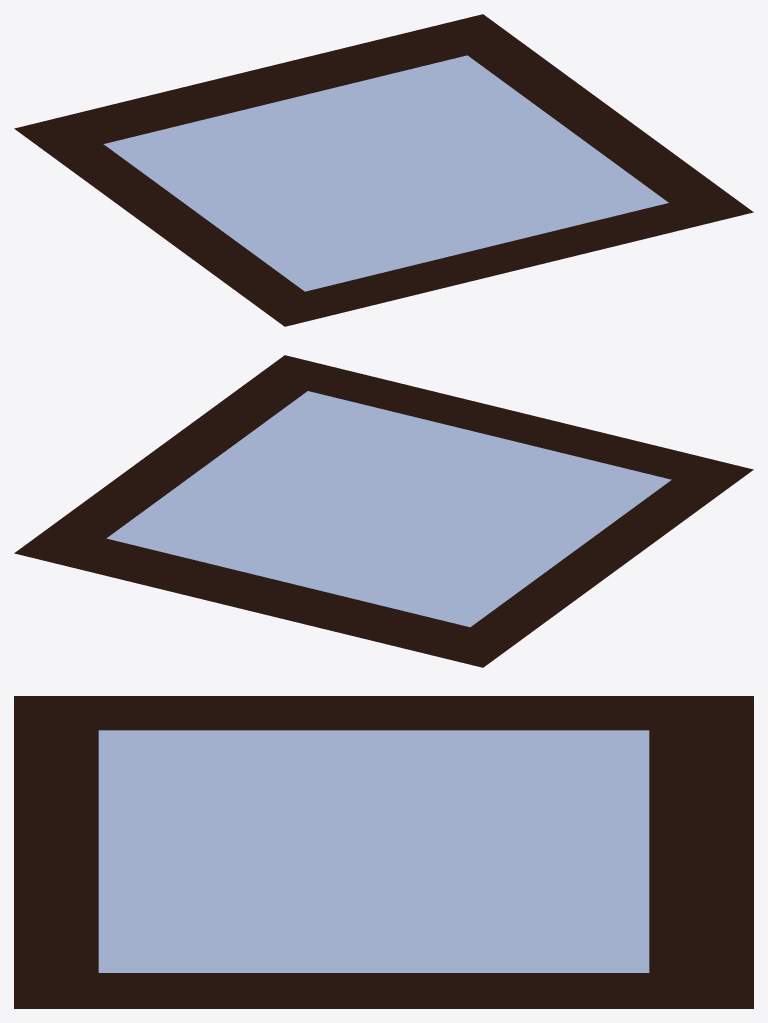
The model's file is fenster.dae.
The picture shows the model from 3 angles, top to bottom: view 1: azimuth 30°, elevation 25°; view 2: azimuth 150°, elevation 25°; view 3: azimuth 270°, elevation 25°; orthographic projection. The views are drawn at different scales.
Parts seen in each view (by area): view 1: Cube; view 2: Cube; view 3: Cube.
Part boxes in pixels (box(x1,y1,x2,y2)): Cube: box(14, 14, 753, 326); Cube: box(14, 355, 753, 667); Cube: box(14, 696, 753, 1008).
Bounding box in the file's own units: 2 × 2 × 0.
